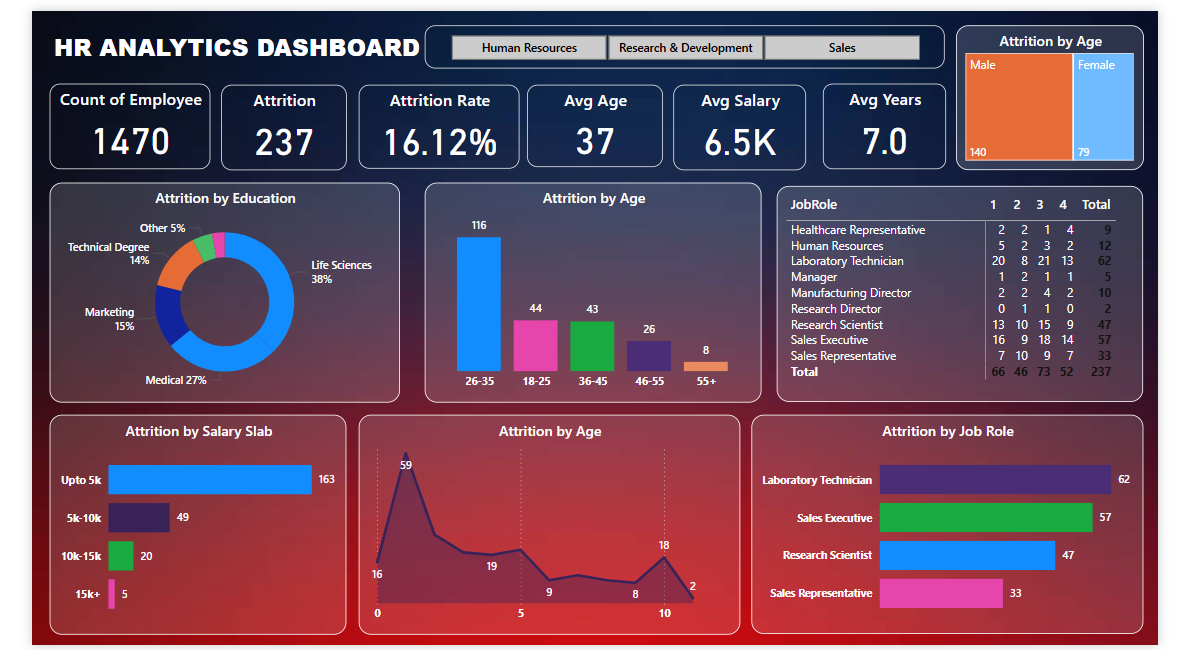

The page's visual inventory and layout, read from the dashboard file:
{"tool":"powerbi","page":{"name":"Page 1","canvas":[1280,720],"ordinal":0},"visuals":[{"type":"card","title":"Count of Employee","fields":{"Values":["CountNonNull(HR_Analytics.EmpID)"]},"box":[20.2,82.3,183.1,97.4],"z":0},{"type":"card","title":"Attrition","fields":{"Values":["Sum(HR_Analytics.AttritionCount)"]},"box":[215,84,142.8,97.4],"z":1000},{"type":"card","title":"Avg Salary","fields":{"Values":["Avg(HR_Analytics.MonthlyIncome)"]},"box":[729,84,151.2,97.4],"z":2000},{"type":"card","title":"Avg Age","fields":{"Values":["Avg(HR_Analytics.Age)"]},"box":[562.7,84,154.5,94.1],"z":3000},{"type":"card","title":"Attrition Rate","fields":{"Values":["HR_Analytics.AttritionRate"]},"box":[371.2,84,183.1,95.7],"z":4000},{"type":"card","title":"Avg Years","fields":{"Values":["Avg(HR_Analytics.YearsAtCompany)"]},"box":[898.7,82.3,140,97.4],"z":5000},{"type":"donutChart","title":" Attrition by Education","fields":{"Category":["HR_Analytics.EducationField"],"Y":["Sum(HR_Analytics.AttritionCount)"]},"box":[20.2,194.9,398.1,250.3],"z":6000},{"type":"columnChart","title":" Attrition by Age","fields":{"Category":["HR_Analytics.AgeGroup"],"Y":["Sum(HR_Analytics.AttritionCount)"]},"box":[446.8,194.9,383,250.3],"z":7000},{"type":"clusteredBarChart","title":" Attrition by Salary Slab","fields":{"Category":["HR_Analytics.SalarySlab"],"Y":["Sum(HR_Analytics.AttritionCount)"]},"box":[20.2,458.6,337.6,250.3],"z":8000},{"type":"clusteredBarChart","title":" Attrition by Job Role","fields":{"Y":["Sum(HR_Analytics.AttritionCount)"],"Category":["HR_Analytics.JobRole"]},"box":[817.9,459.3,445.1,249.5],"z":9000},{"type":"areaChart","title":" Attrition by Age","fields":{"Category":["HR_Analytics.YearsAtCompany"],"Y":["Sum(HR_Analytics.AttritionCount)"]},"box":[371.2,458.6,433.4,250.3],"z":10000},{"type":"treemap","title":" Attrition by Age","fields":{"Group":["HR_Analytics.Gender"],"Values":["Sum(HR_Analytics.AttritionCount)"]},"box":[1049.9,16.8,213.3,164.6],"z":11000},{"type":"pivotTable","title":" Attrition by Age","fields":{"Values":["Sum(HR_Analytics.AttritionCount)"],"Rows":["HR_Analytics.JobRole"],"Columns":["HR_Analytics.JobSatisfaction"]},"box":[846.2,198.4,416.7,245.2],"z":12000},{"type":"textbox","box":[20.2,16.8,443.5,48.7],"z":13000},{"type":"slicer","fields":{"Values":["HR_Analytics.Department"]},"box":[446.8,16.8,591.3,48.7],"z":14000}]}

Visuals, with their boxes in screenshot pixels (x1, y1, x2, y2):
"Count of Employee" card: detection(28, 67, 197, 157)
"Attrition" card: detection(208, 68, 340, 158)
"Avg Salary" card: detection(683, 68, 822, 158)
"Avg Age" card: detection(529, 68, 672, 155)
"Attrition Rate" card: detection(352, 68, 521, 157)
"Avg Years" card: detection(839, 67, 969, 157)
" Attrition by Education" donutChart: detection(28, 171, 396, 402)
" Attrition by Age" columnChart: detection(422, 171, 776, 402)
" Attrition by Salary Slab" clusteredBarChart: detection(28, 414, 340, 645)
" Attrition by Job Role" clusteredBarChart: detection(765, 415, 1176, 645)
" Attrition by Age" areaChart: detection(352, 414, 752, 645)
" Attrition by Age" treemap: detection(979, 6, 1176, 158)
" Attrition by Age" pivotTable: detection(791, 174, 1176, 400)
textbox: detection(28, 6, 438, 51)
slicer - HR_Analytics.Department: detection(422, 6, 968, 51)
